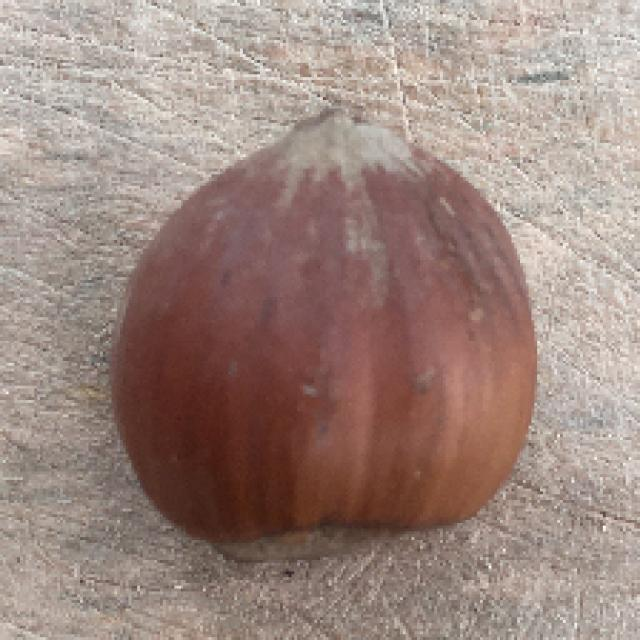damagedHazelnut: (115, 113, 548, 562)
